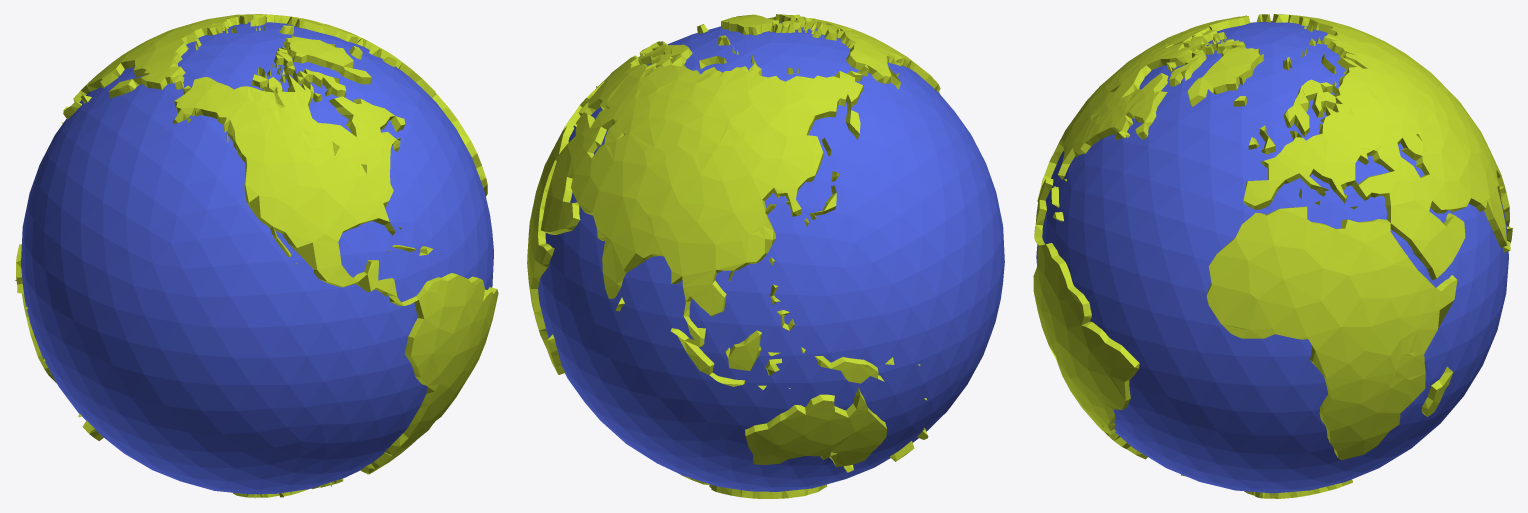
Rendered from cartoon_earth.glb.
3 views of the same model, side by side, from view 1: azimuth 30°, elevation 25°; view 2: azimuth 150°, elevation 25°; view 3: azimuth 270°, elevation 25° (orthographic).
Parts seen in each view (by area): view 1: ocean, Sphere.001; view 2: ocean, Sphere.001; view 3: ocean, Sphere.001.
Part boxes in pixels (x1,y1,x2,y2): ocean: (21,22,493,494); Sphere.001: (15,14,498,498); ocean: (538,22,1004,491); Sphere.001: (527,14,940,498); ocean: (1036,21,1508,493); Sphere.001: (1033,14,1512,498).
Size of the model in its own units: 2.02 by 2.05 by 2.03.
